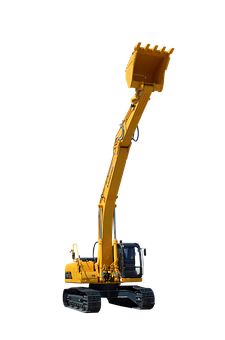excavator: (61, 39, 177, 315)
